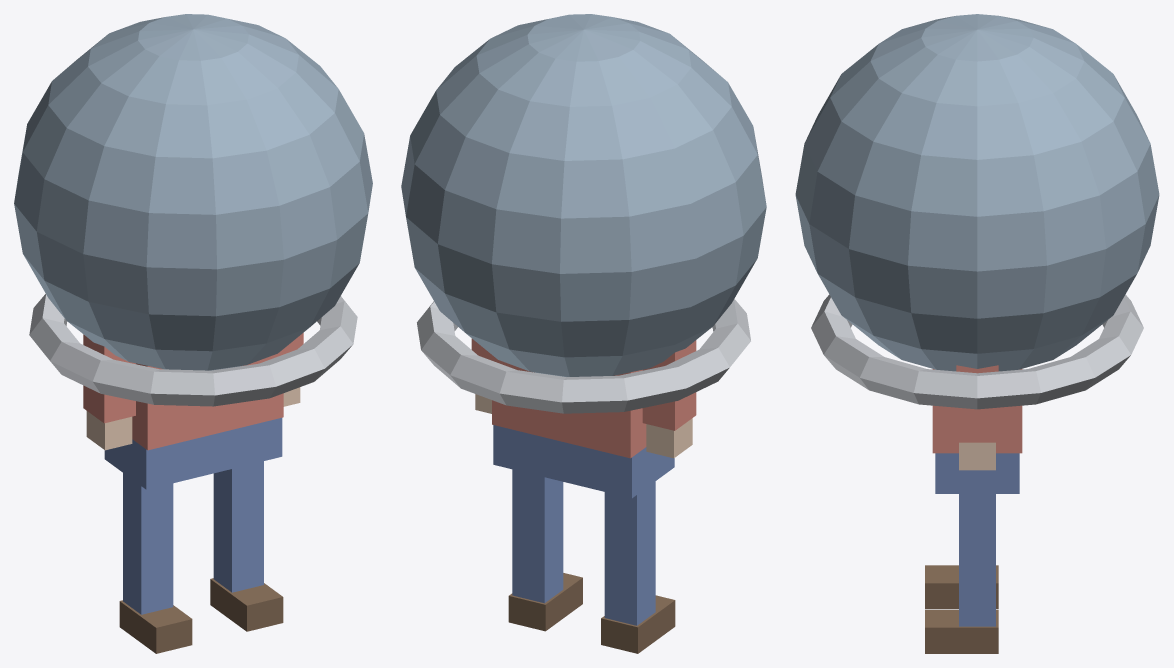
File: arena_tourist.glb
The picture shows the model from 3 angles, left to right: view 1: azimuth 30°, elevation 25°; view 2: azimuth 150°, elevation 25°; view 3: azimuth 270°, elevation 25°; orthographic projection.
Parts seen in each view (by area): view 1: dome_bubble, arena_tourist; view 2: dome_bubble, arena_tourist; view 3: dome_bubble, arena_tourist.
Part boxes in pixels (x1,y1,x2,y2): dome_bubble: (14,14,372,370); arena_tourist: (29,294,357,653); dome_bubble: (401,14,766,376); arena_tourist: (417,299,750,653); dome_bubble: (795,14,1159,371); arena_tourist: (811,294,1143,653).
Bounding box in the file's own units: 0.94 × 1.69 × 0.94.
